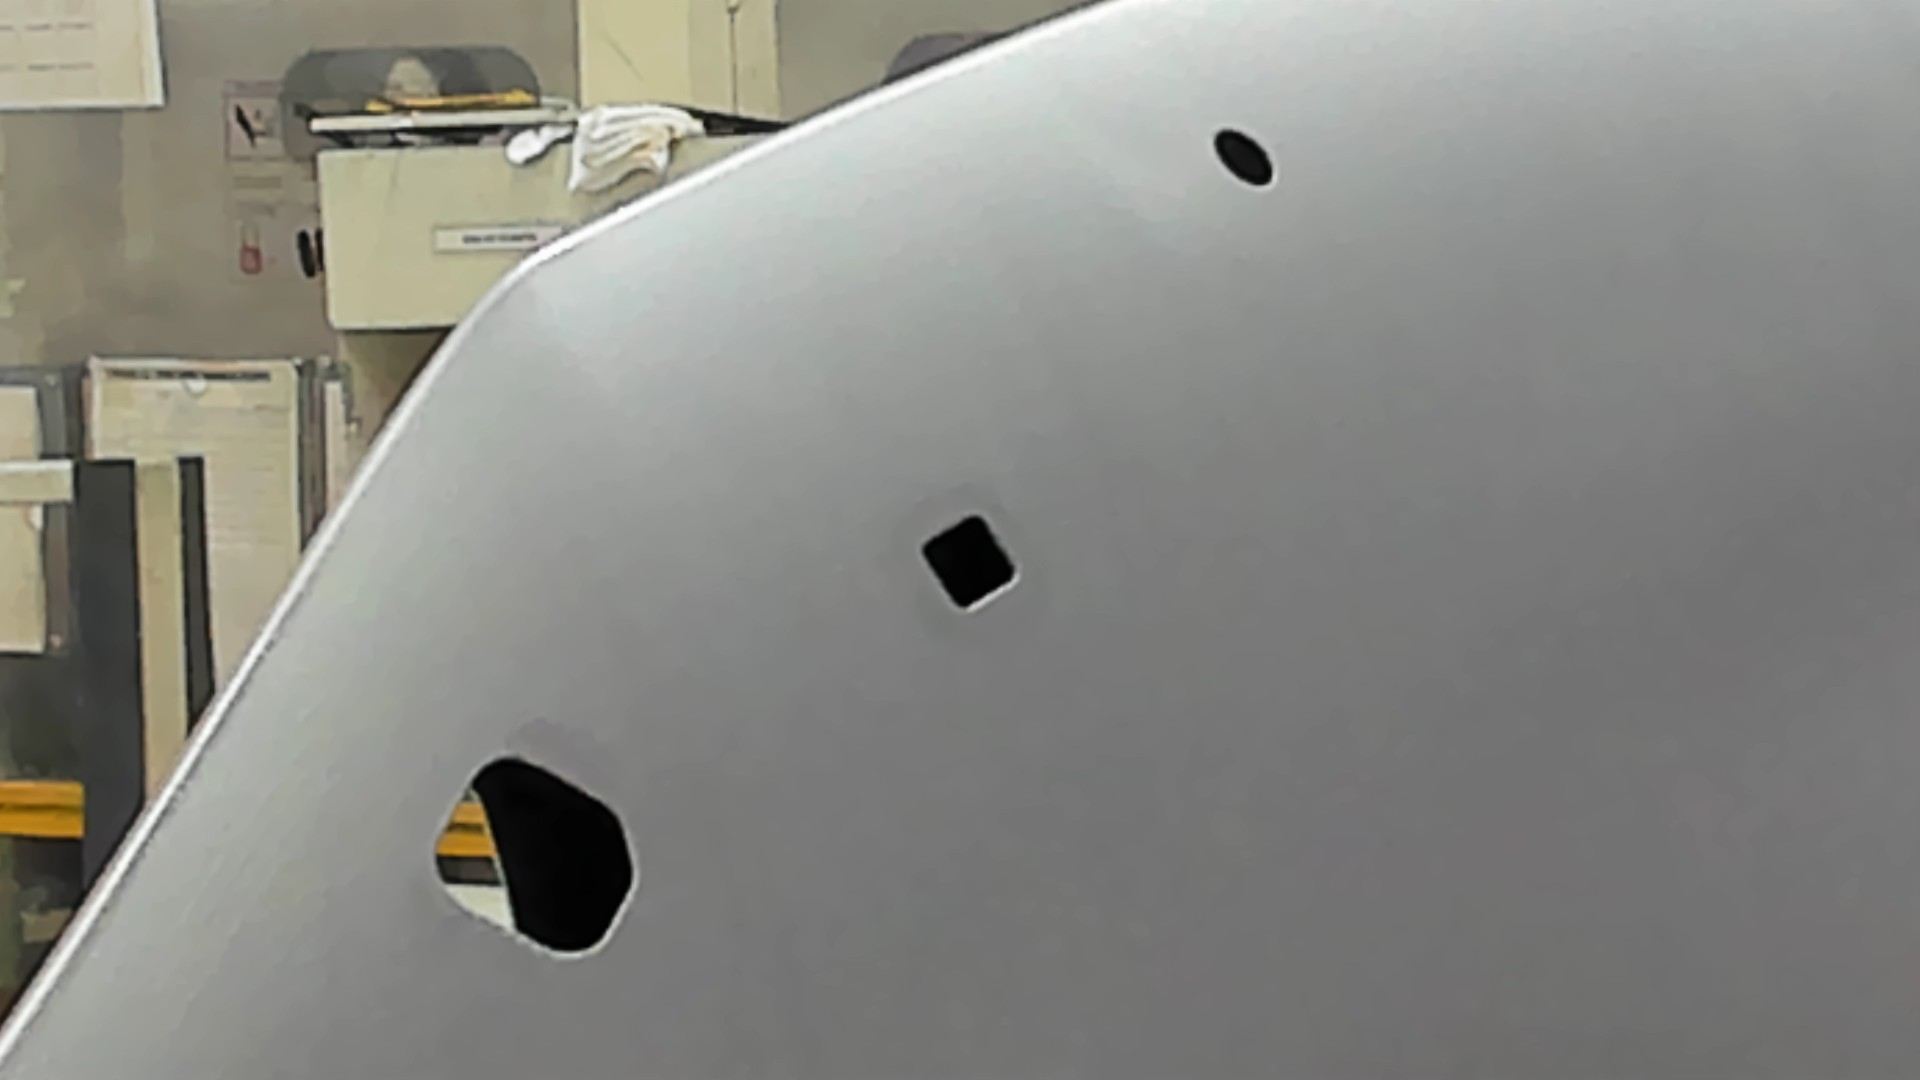Agujero: (918, 512, 1021, 611), (1211, 125, 1276, 187)
Agujerote: (431, 756, 637, 963)
